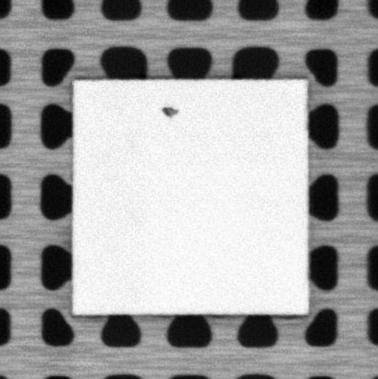DIE_INK: (161, 105, 180, 116)
